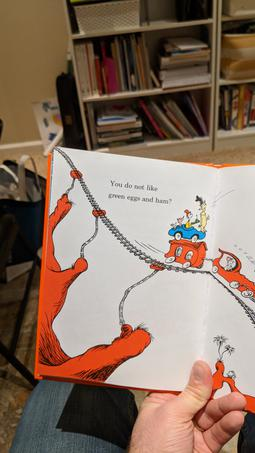text block: (103, 174, 179, 207)
